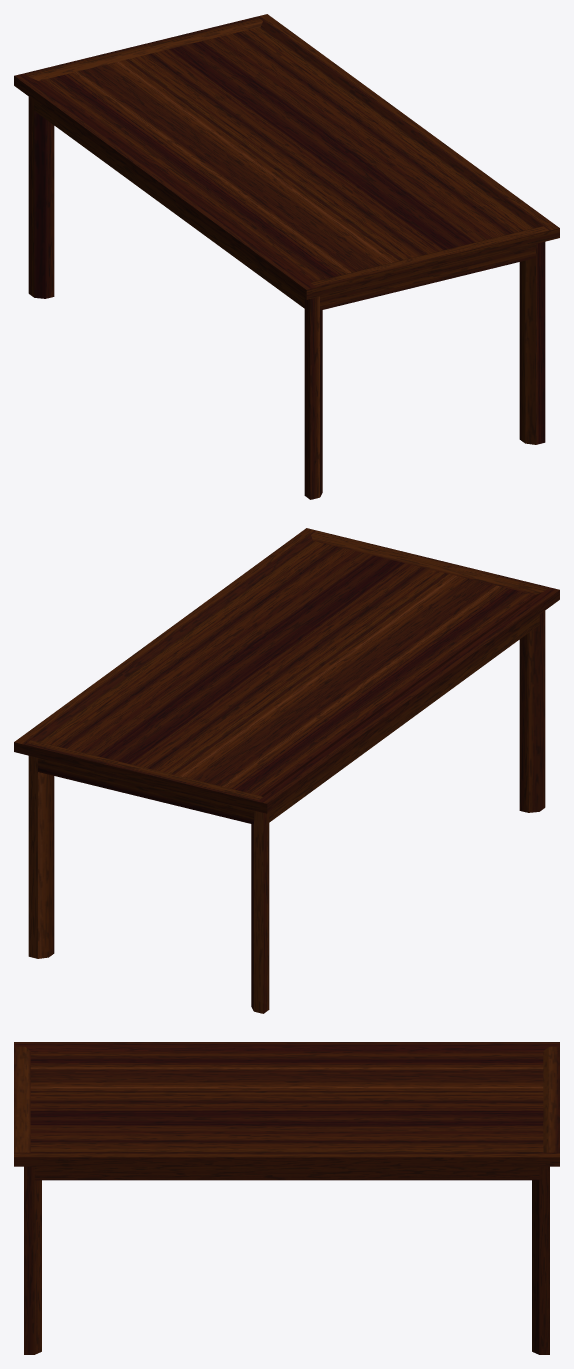
The model's file is wood_table_lowpoly.glb.
3 views of the same model, one above another, from view 1: azimuth 30°, elevation 25°; view 2: azimuth 150°, elevation 25°; view 3: azimuth 270°, elevation 25° (orthographic). The views are drawn at different scales.
Parts seen in each view (by area): view 1: Box002; view 2: Box002; view 3: Box002.
Boxes of the visible parts, x1=… form: Box002: x1=14, y1=14, x2=559, y2=499; Box002: x1=14, y1=528, x2=559, y2=1013; Box002: x1=14, y1=1042, x2=559, y2=1354.
Size of the model in its own units: 35.43 by 28.88 by 70.87.
Materials: 1 (1 with a texture image).
